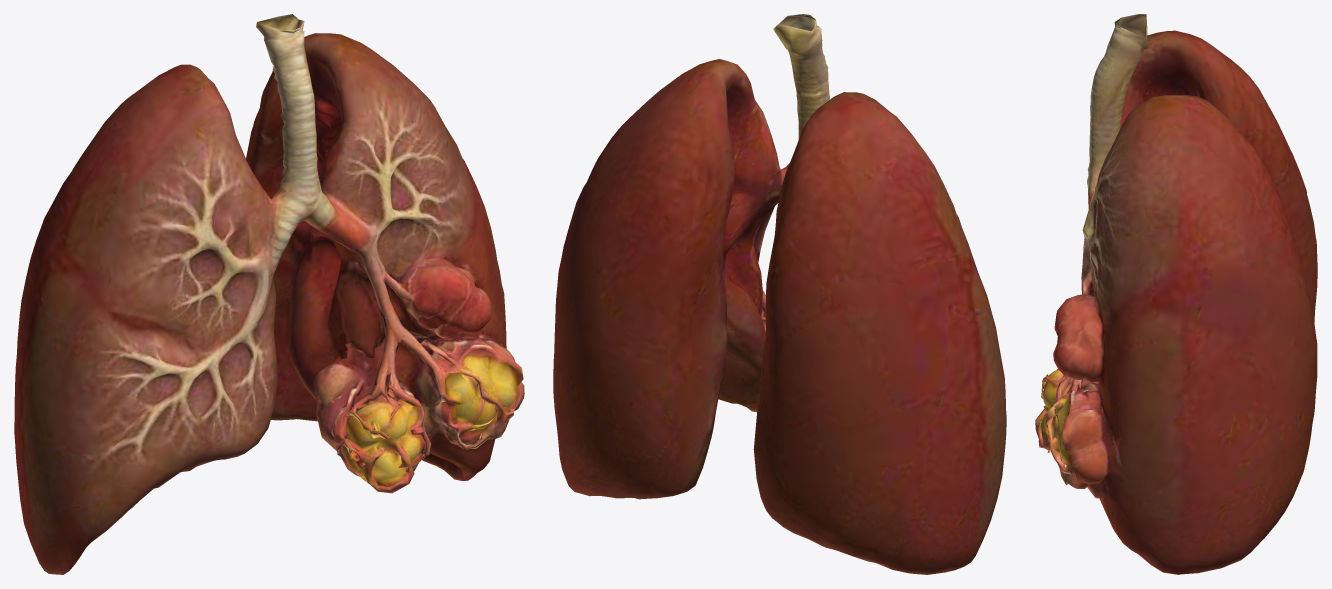
The model's file is AlvioliPneumonia.glb.
3 views of the same model, side by side, from view 1: azimuth 30°, elevation 25°; view 2: azimuth 150°, elevation 25°; view 3: azimuth 270°, elevation 25° (orthographic). The views are drawn at different scales.
Parts seen in each view (by area): view 1: AlvioliPneumonia; view 2: AlvioliPneumonia; view 3: AlvioliPneumonia.
Part boxes in pixels (left/top/right/bottom): AlvioliPneumonia: left=14, top=14, right=524, bottom=574; AlvioliPneumonia: left=553, top=14, right=1006, bottom=574; AlvioliPneumonia: left=1035, top=14, right=1317, bottom=574.
Size of the model in its own units: 0.1866 by 0.2001 by 0.11.
1 material, 1 textured.
